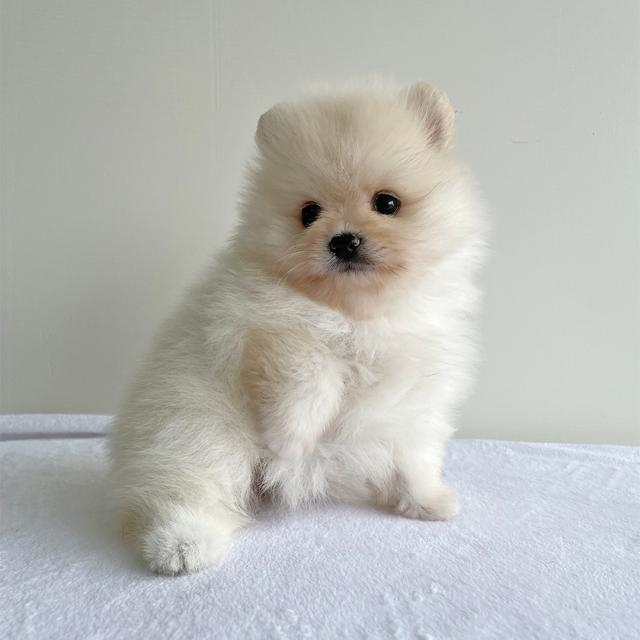puppy-dog: (90, 75, 492, 581)
